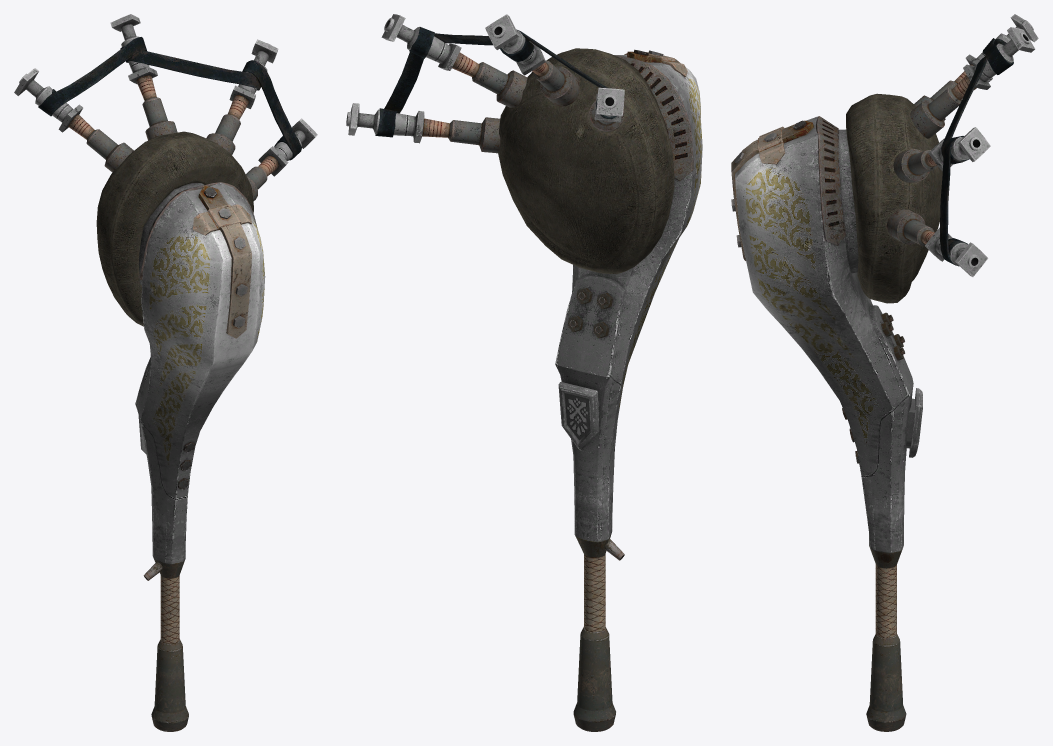
The model's file is bs_hue012.obj.
3 views of the same model, side by side, from view 1: azimuth 30°, elevation 25°; view 2: azimuth 150°, elevation 25°; view 3: azimuth 270°, elevation 25° (orthographic). The views are drawn at different scales.
Parts seen in each view (by area): view 1: bs_hue012_001_LOD_1, bs_hue012_002_LOD_1, bs_hue012_000_LOD_1; view 2: bs_hue012_001_LOD_1, bs_hue012_000_LOD_1, bs_hue012_002_LOD_1; view 3: bs_hue012_001_LOD_1, bs_hue012_000_LOD_1, bs_hue012_002_LOD_1.
Boxes of the visible parts, x1,y1,x2,y2 form: bs_hue012_001_LOD_1: (135, 182, 265, 731); bs_hue012_002_LOD_1: (14, 14, 317, 201); bs_hue012_000_LOD_1: (96, 131, 253, 326); bs_hue012_001_LOD_1: (555, 49, 702, 731); bs_hue012_000_LOD_1: (498, 48, 674, 274); bs_hue012_002_LOD_1: (348, 14, 624, 153); bs_hue012_001_LOD_1: (731, 116, 922, 731); bs_hue012_000_LOD_1: (846, 93, 942, 303); bs_hue012_002_LOD_1: (886, 14, 1038, 276).
Size of the model in its own units: 130 by 304 by 120.
